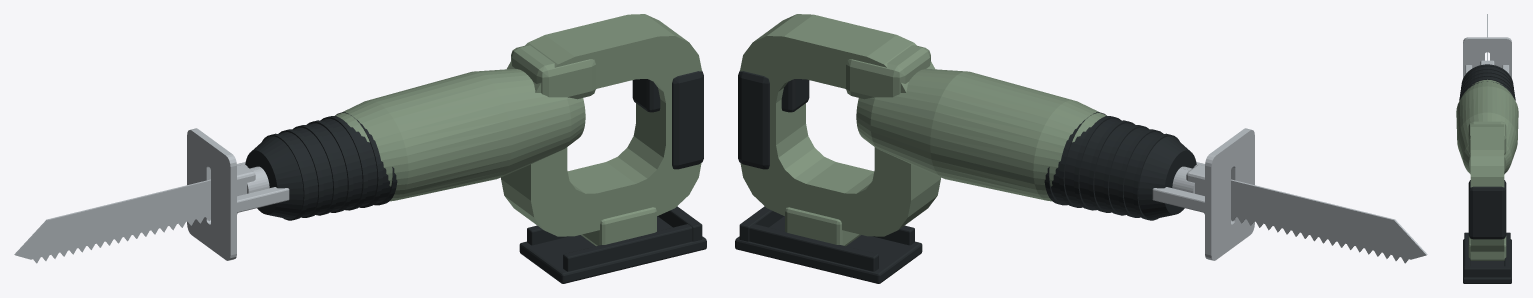
The model's file is full.glb.
3 views of the same model, side by side, from view 1: azimuth 30°, elevation 25°; view 2: azimuth 150°, elevation 25°; view 3: azimuth 270°, elevation 25° (orthographic). The views are drawn at different scales.
Visible parts, largest first — view 1: Rear open D handle, Long motor housing, Front wrapped grip, Long static axial toothed blade, Small upright shoe with slot, Battery slide bottom plate, Rear dark hand grip, Upper rear shoulder, Battery slide rail -0.024, Battery mount neck, Shoe mounting stem -0.022, Inner trigger (+8 smaller); view 2: Rear open D handle, Long motor housing, Front wrapped grip, Long static axial toothed blade, Small upright shoe with slot, Battery slide bottom plate, Rear dark hand grip, Upper rear shoulder, Battery slide rail 0.024, Battery mount neck, Shoe mounting stem 0.022, Inner trigger (+8 smaller); view 3: Long motor housing, Rear open D handle, Rear dark hand grip, Small upright shoe with slot, Battery slide bottom plate, Battery slide rear stop, Front wrapped grip, Battery mount neck, Upper rear shoulder, Battery slide rail -0.024, Battery slide rail 0.024, Front grip rib 2 (+6 smaller).
Part boxes in pixels (x1,y1,x2,y2): Rear open D handle: (501, 14, 701, 236); Long motor housing: (335, 69, 585, 201); Front wrapped grip: (245, 115, 390, 219); Long static axial toothed blade: (14, 167, 260, 263); Small upright shoe with slot: (187, 128, 236, 260); Battery slide bottom plate: (519, 216, 706, 283); Rear dark hand grip: (672, 71, 703, 169); Upper rear shoulder: (511, 45, 595, 99); Battery slide rail -0.024: (563, 224, 692, 271); Battery mount neck: (581, 207, 656, 246); Shoe mounting stem -0.022: (237, 187, 289, 212); Inner trigger: (632, 79, 660, 112); Rear open D handle: (740, 14, 940, 236); Long motor housing: (856, 69, 1106, 201); Front wrapped grip: (1051, 115, 1196, 219); Long static axial toothed blade: (1181, 167, 1427, 263); Small upright shoe with slot: (1205, 128, 1254, 260); Battery slide bottom plate: (735, 216, 922, 283); Rear dark hand grip: (738, 71, 769, 169); Upper rear shoulder: (846, 45, 930, 99); Battery slide rail 0.024: (749, 224, 878, 271); Battery mount neck: (785, 207, 860, 246); Shoe mounting stem 0.022: (1152, 187, 1204, 212); Inner trigger: (781, 79, 809, 112); Long motor housing: (1456, 79, 1518, 174); Rear open D handle: (1470, 124, 1504, 253); Rear dark hand grip: (1468, 180, 1506, 239); Small upright shoe with slot: (1463, 37, 1511, 78); Battery slide bottom plate: (1463, 239, 1511, 283); Battery slide rear stop: (1464, 266, 1510, 277); Front wrapped grip: (1462, 64, 1512, 93); Battery mount neck: (1468, 236, 1506, 260); Upper rear shoulder: (1468, 121, 1506, 154); Battery slide rail -0.024: (1464, 232, 1470, 266); Battery slide rail 0.024: (1504, 232, 1510, 266); Front grip rib 2: (1460, 71, 1514, 92).
Size of the model in its own units: 0.5205 by 0.161 by 0.074.
